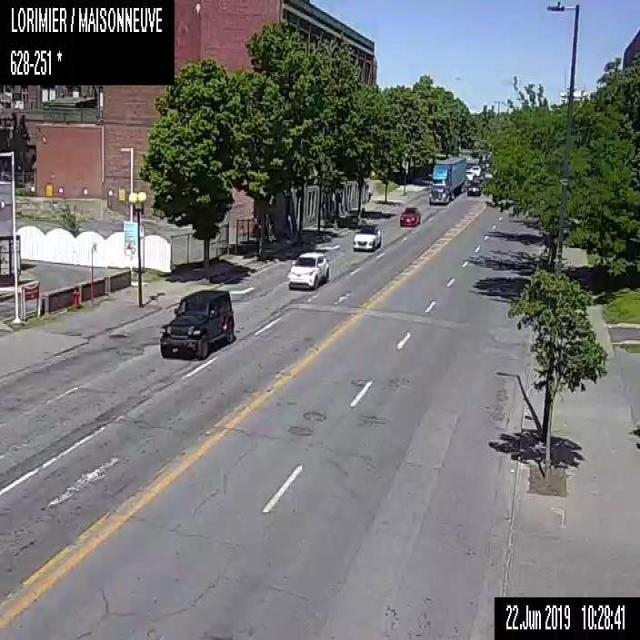vehicle: (160, 286, 233, 358), (428, 156, 466, 204), (285, 251, 328, 288), (352, 223, 381, 249), (399, 206, 420, 226), (466, 179, 481, 195), (465, 168, 474, 179), (471, 164, 480, 175)
